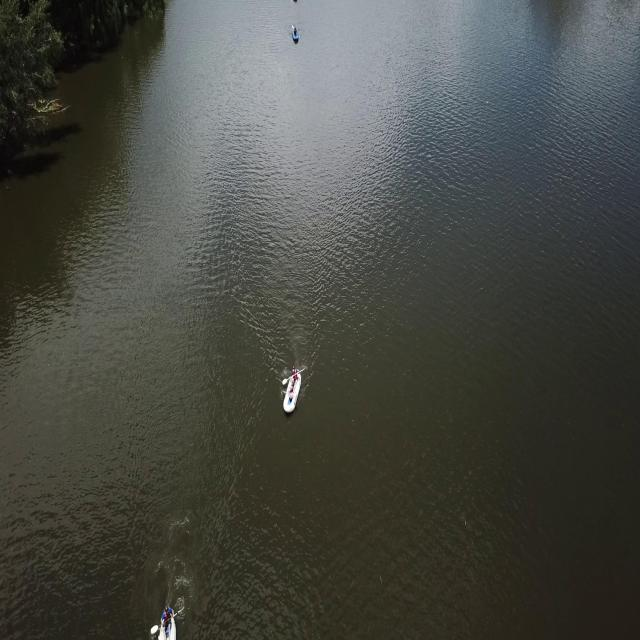kayak: (150, 596, 185, 640), (280, 364, 304, 418), (290, 27, 301, 46)
